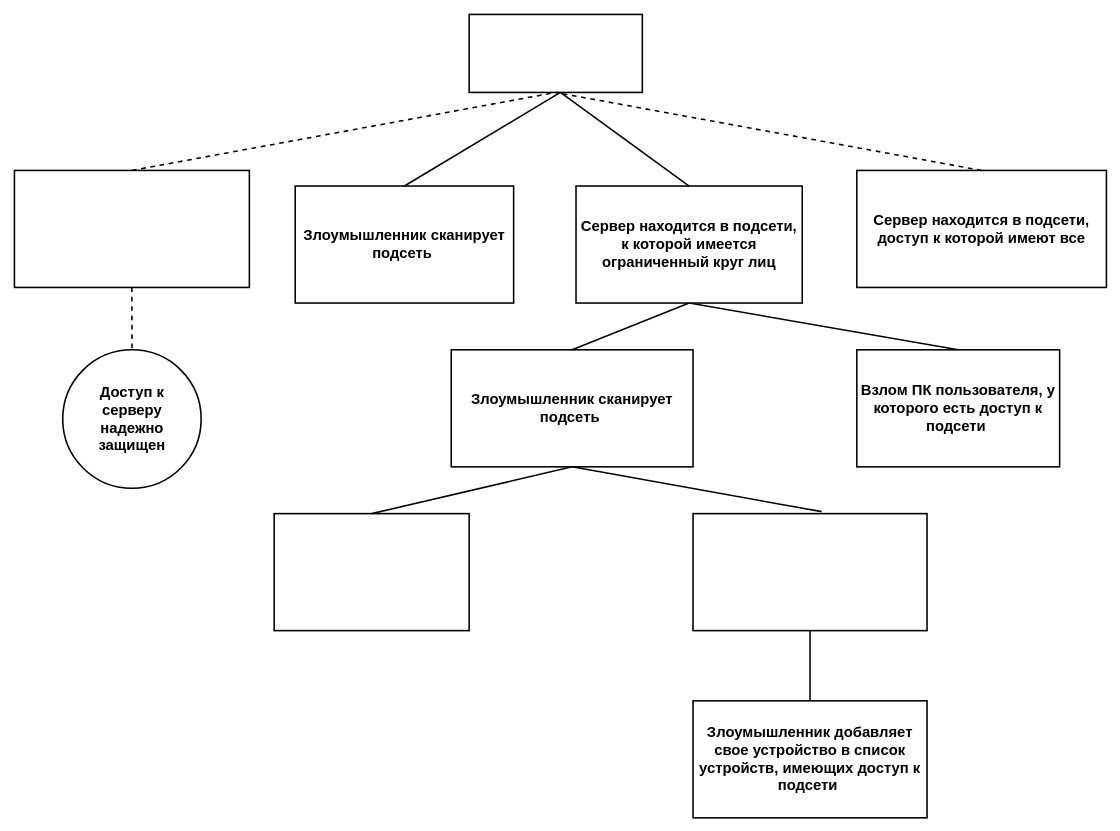
The diagram is 1120 pixels wide and 831 high, and some of its shapes have lost their labels. Each missing label, with the box of its shape:
Несанкционированный доступ пользователя: (468, 13, 643, 93)
Подбор пароля администратора сетевого оборудования: (273, 512, 470, 631)
Получение физического доступа к серверу: (13, 169, 250, 288)
Эксплуатация уязвимостей сетевого оборудования: (692, 512, 927, 631)
